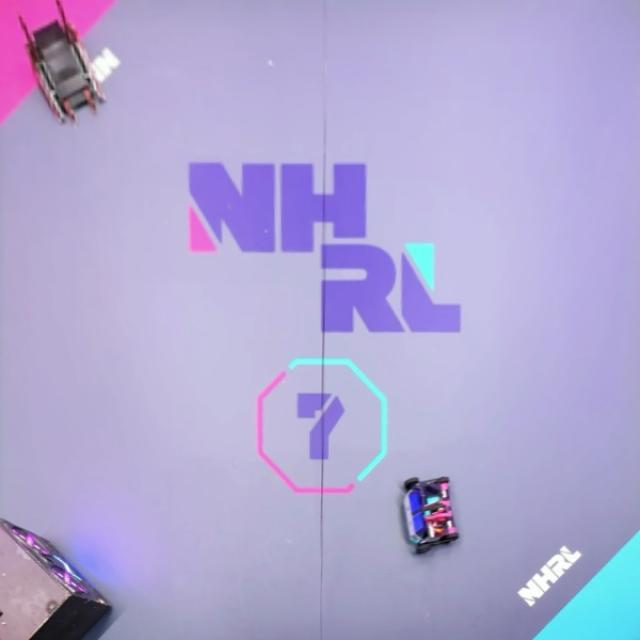housebot: (0, 517, 113, 640)
robot: (18, 0, 106, 123), (401, 474, 458, 554)
